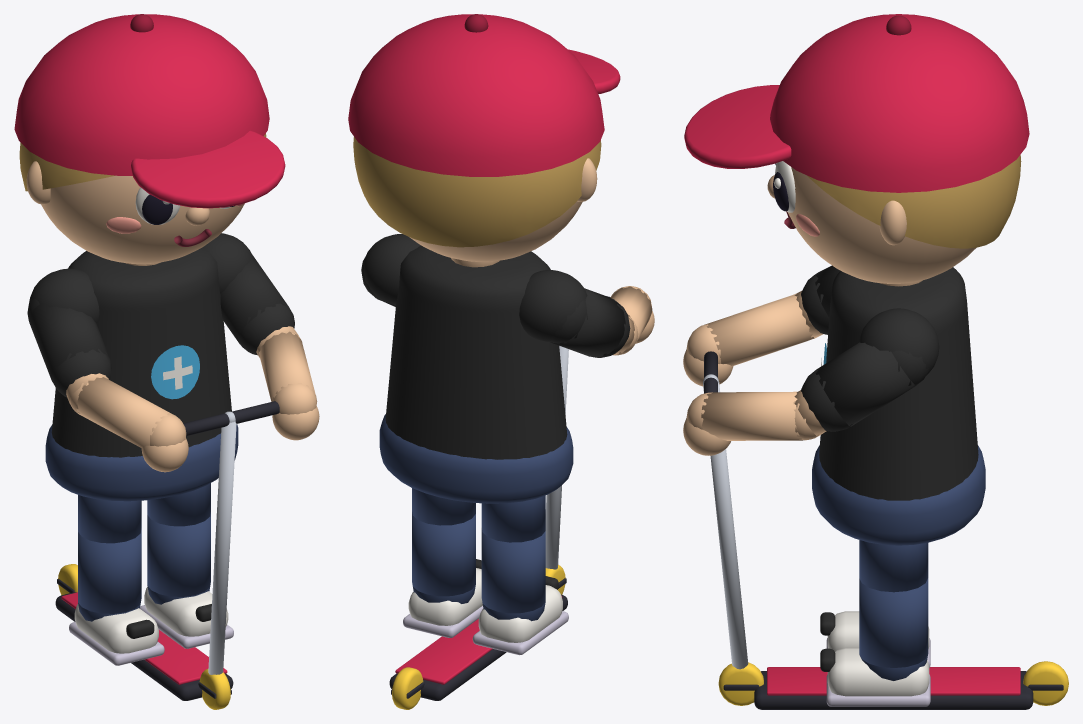
File: ch_passer_scooter.fbx
3 views of the same model, side by side, from view 1: azimuth 30°, elevation 25°; view 2: azimuth 150°, elevation 25°; view 3: azimuth 270°, elevation 25° (orthographic). The views are drawn at different scales.
Visible parts, largest first — view 1: ch_passer_scooter__base, ch_passer_scooter__anim_kick_r, ch_passer_scooter__anim_wheel_f, ch_passer_scooter__anim_wheel_b; view 2: ch_passer_scooter__base, ch_passer_scooter__anim_kick_r, ch_passer_scooter__anim_wheel_b; view 3: ch_passer_scooter__base, ch_passer_scooter__anim_kick_r, ch_passer_scooter__anim_wheel_b, ch_passer_scooter__anim_wheel_f.
Part boxes in pixels (<box>): ch_passer_scooter__base: <box>14,14,319,700</box>; ch_passer_scooter__anim_kick_r: <box>140,483,233,648</box>; ch_passer_scooter__anim_wheel_f: <box>198,669,231,709</box>; ch_passer_scooter__anim_wheel_b: <box>57,564,77,595</box>; ch_passer_scooter__base: <box>348,14,654,700</box>; ch_passer_scooter__anim_kick_r: <box>403,488,483,637</box>; ch_passer_scooter__anim_wheel_b: <box>391,667,424,709</box>; ch_passer_scooter__base: <box>683,14,1033,709</box>; ch_passer_scooter__anim_kick_r: <box>820,540,930,706</box>; ch_passer_scooter__anim_wheel_b: <box>1023,661,1068,705</box>; ch_passer_scooter__anim_wheel_f: <box>718,662,763,705</box>.
Bounding box in the file's own units: 0.5805 × 1.49 × 0.76.
